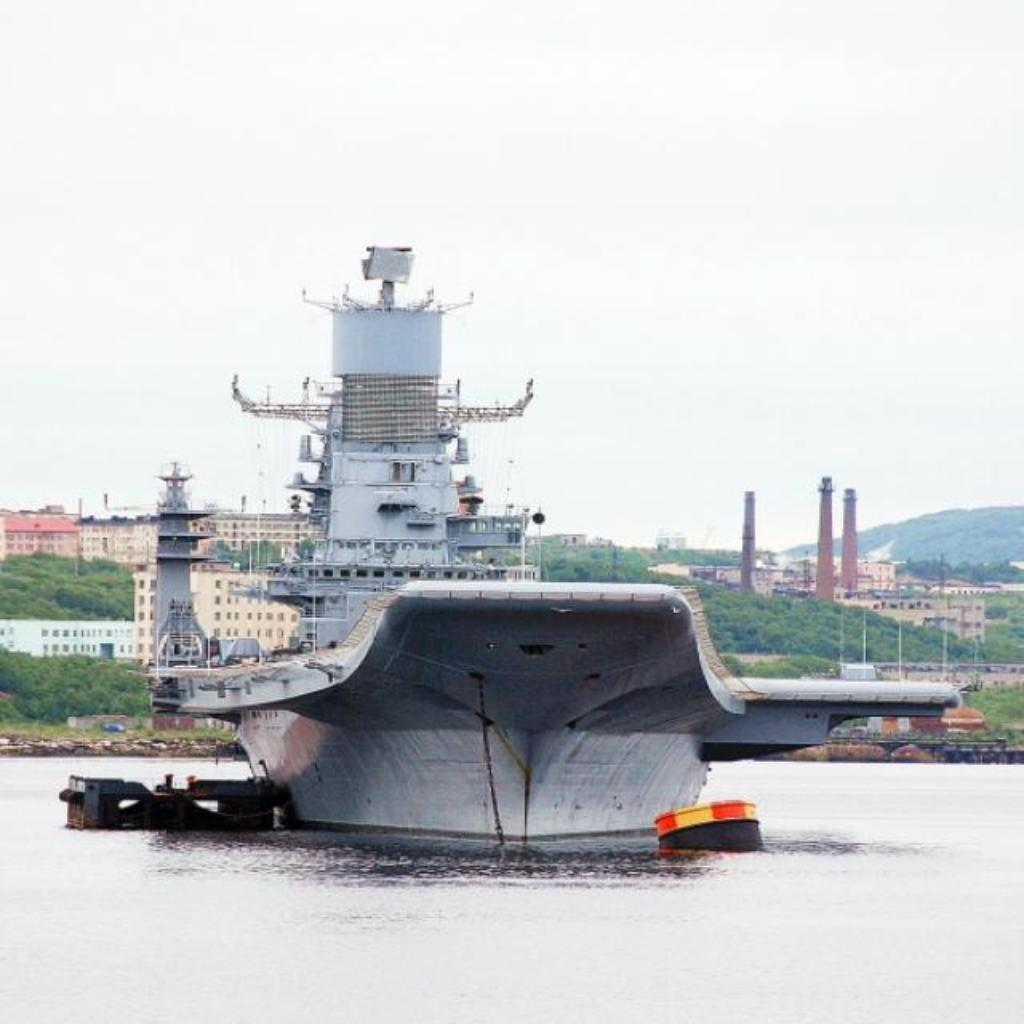Warship: (149, 244, 977, 852)
